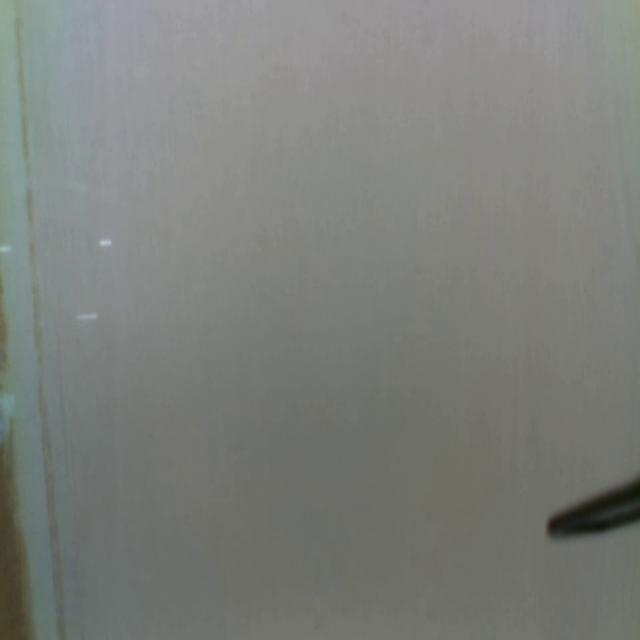color bleeding: (0, 0, 66, 638)
